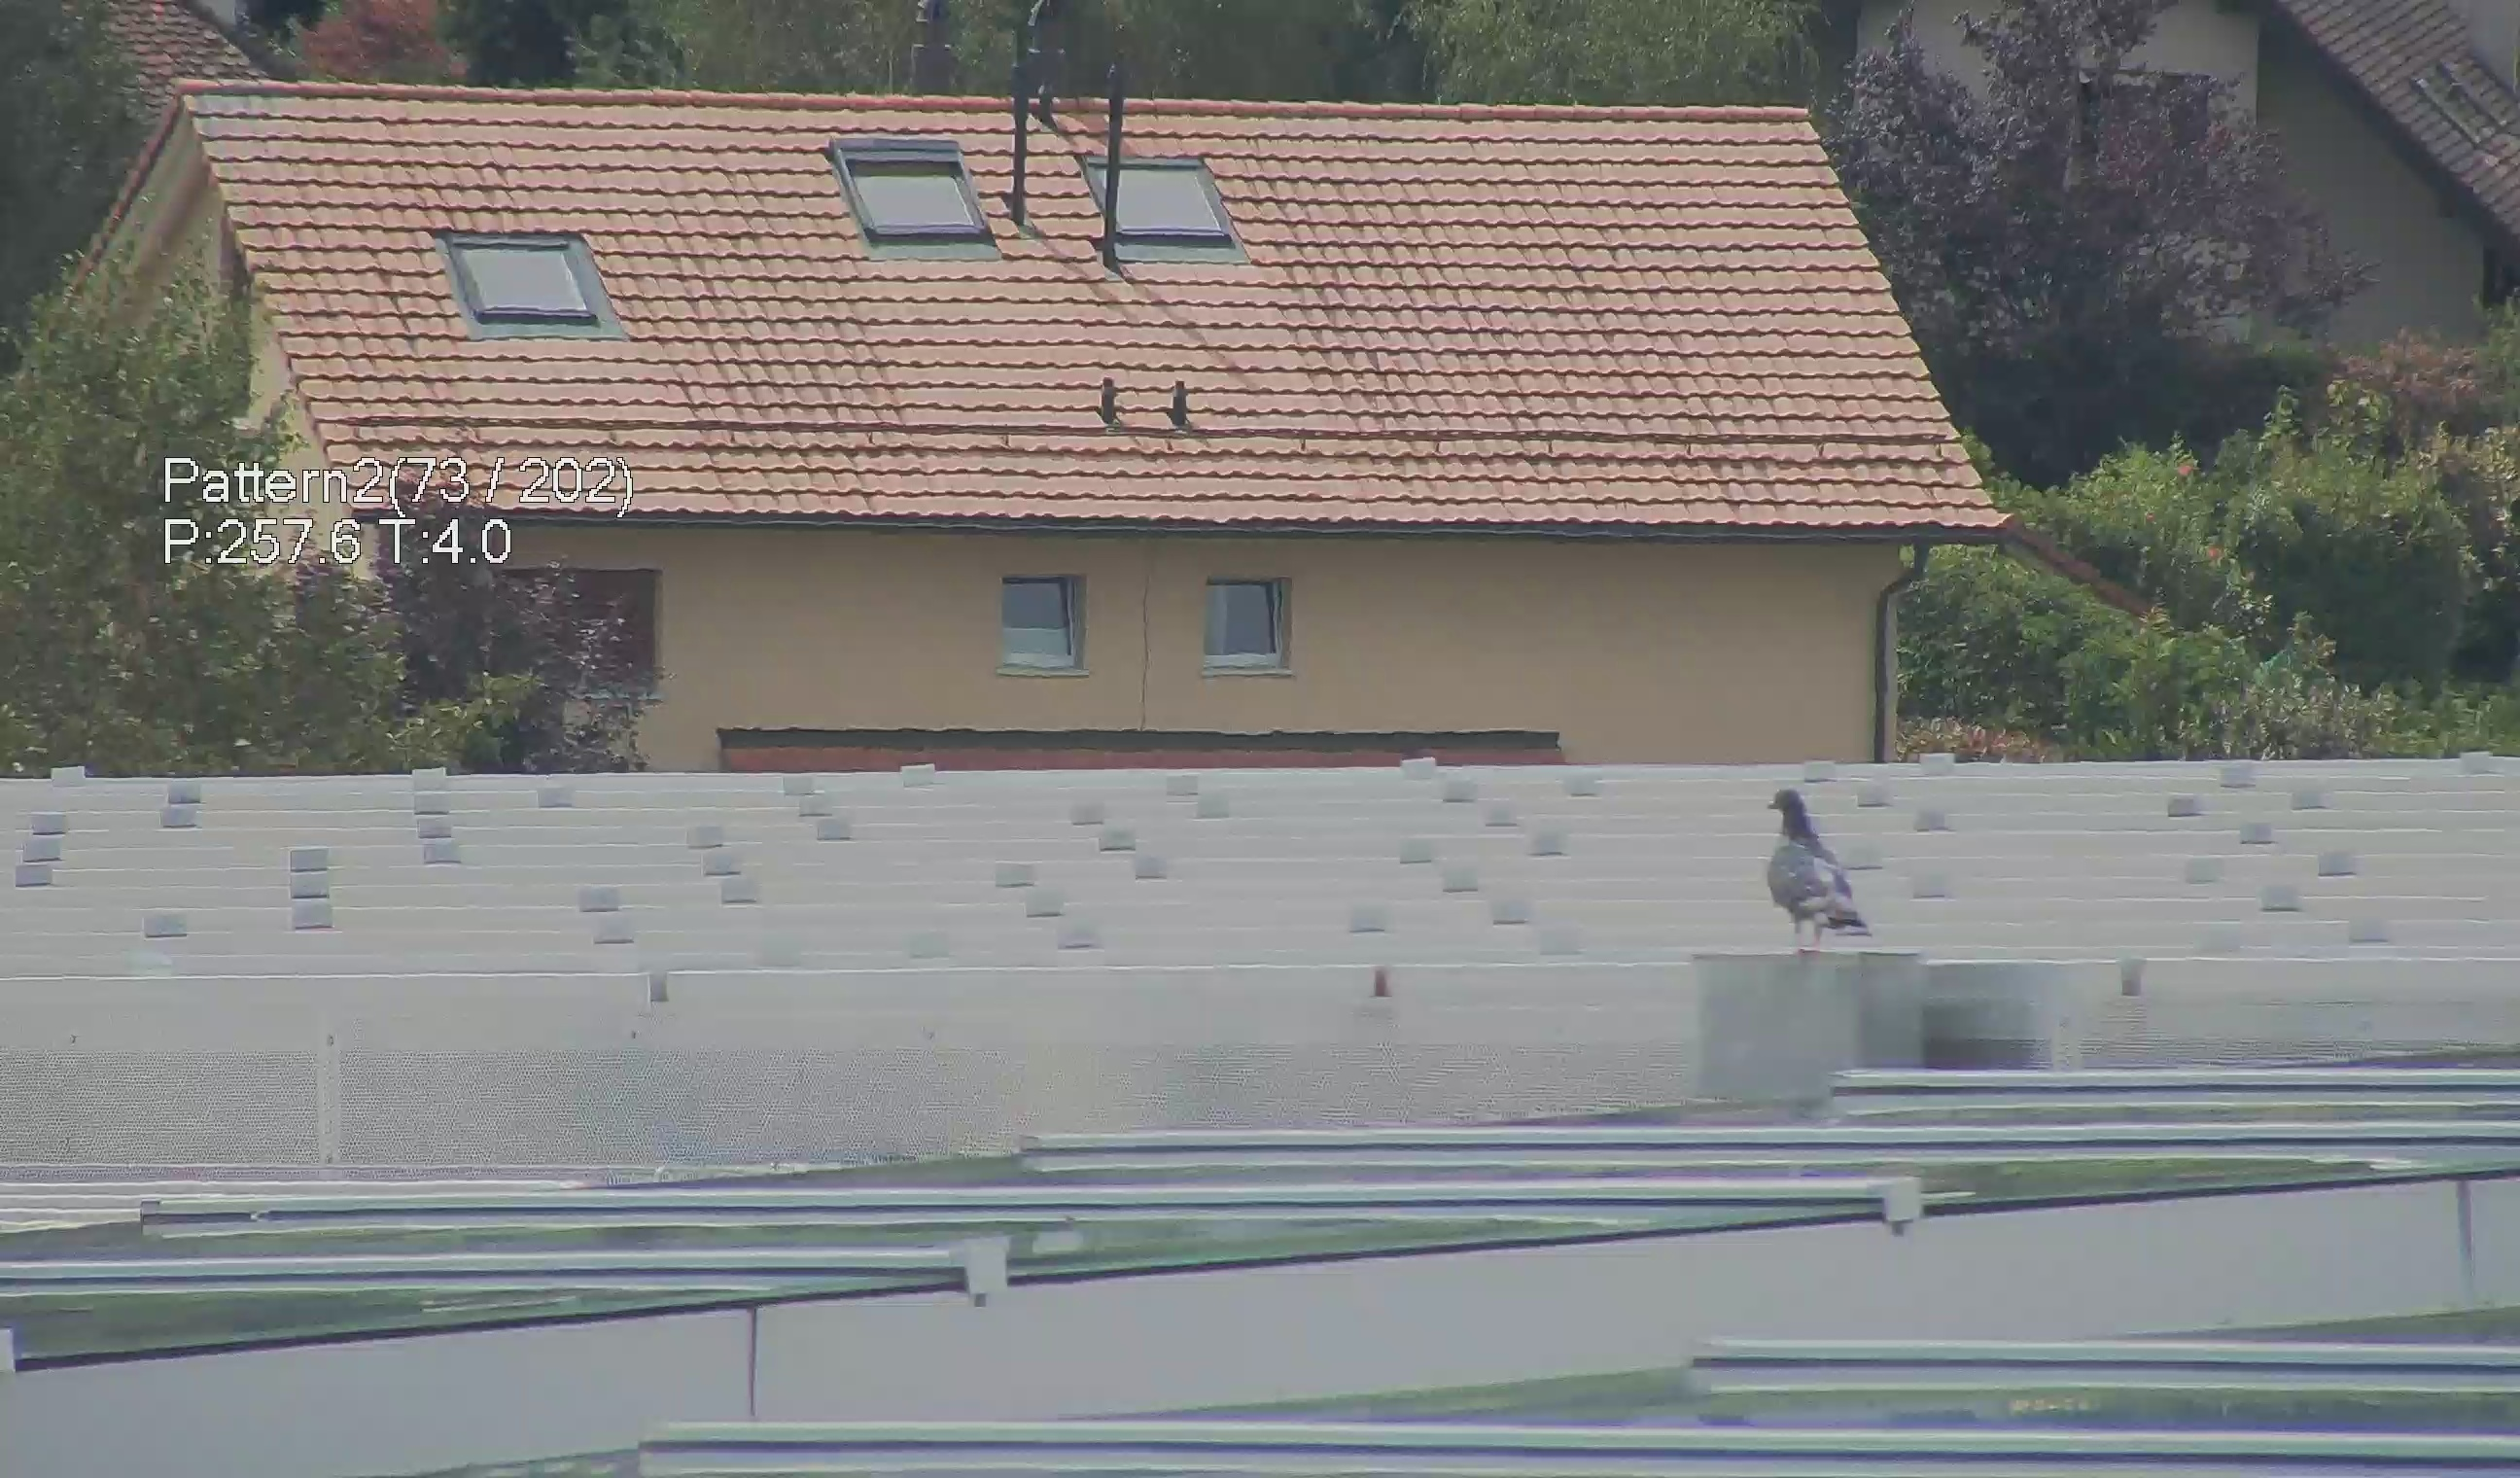Pigeon: (1759, 771, 1897, 954)
